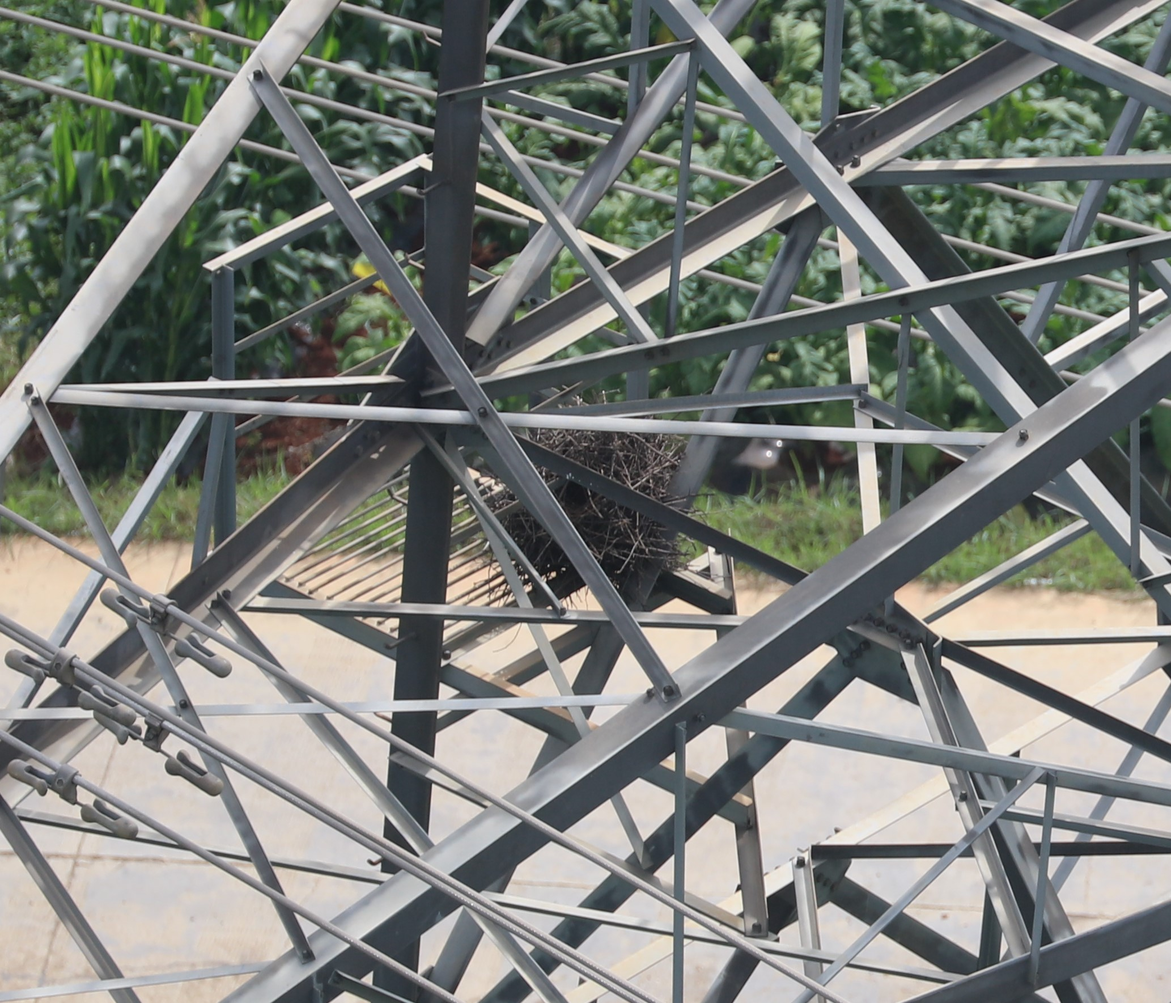damper: (92, 570, 239, 687), (2, 751, 142, 843), (90, 708, 228, 801), (2, 641, 141, 730)
nest: (514, 399, 678, 588)
